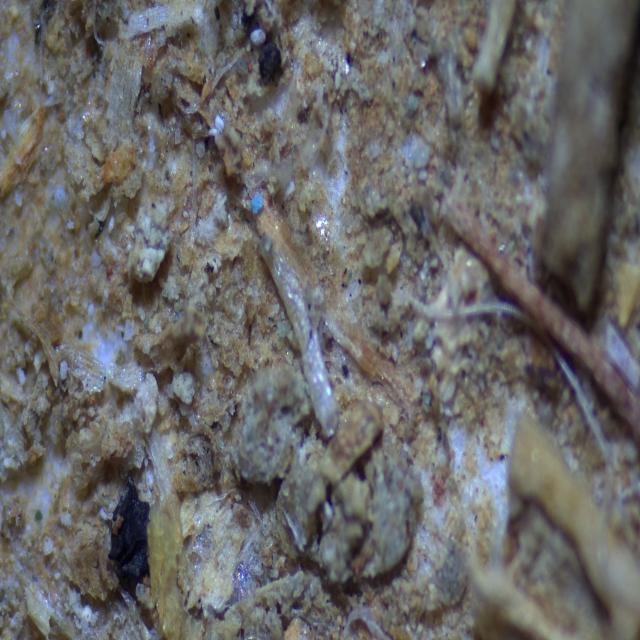microplastic: (249, 189, 265, 214)
